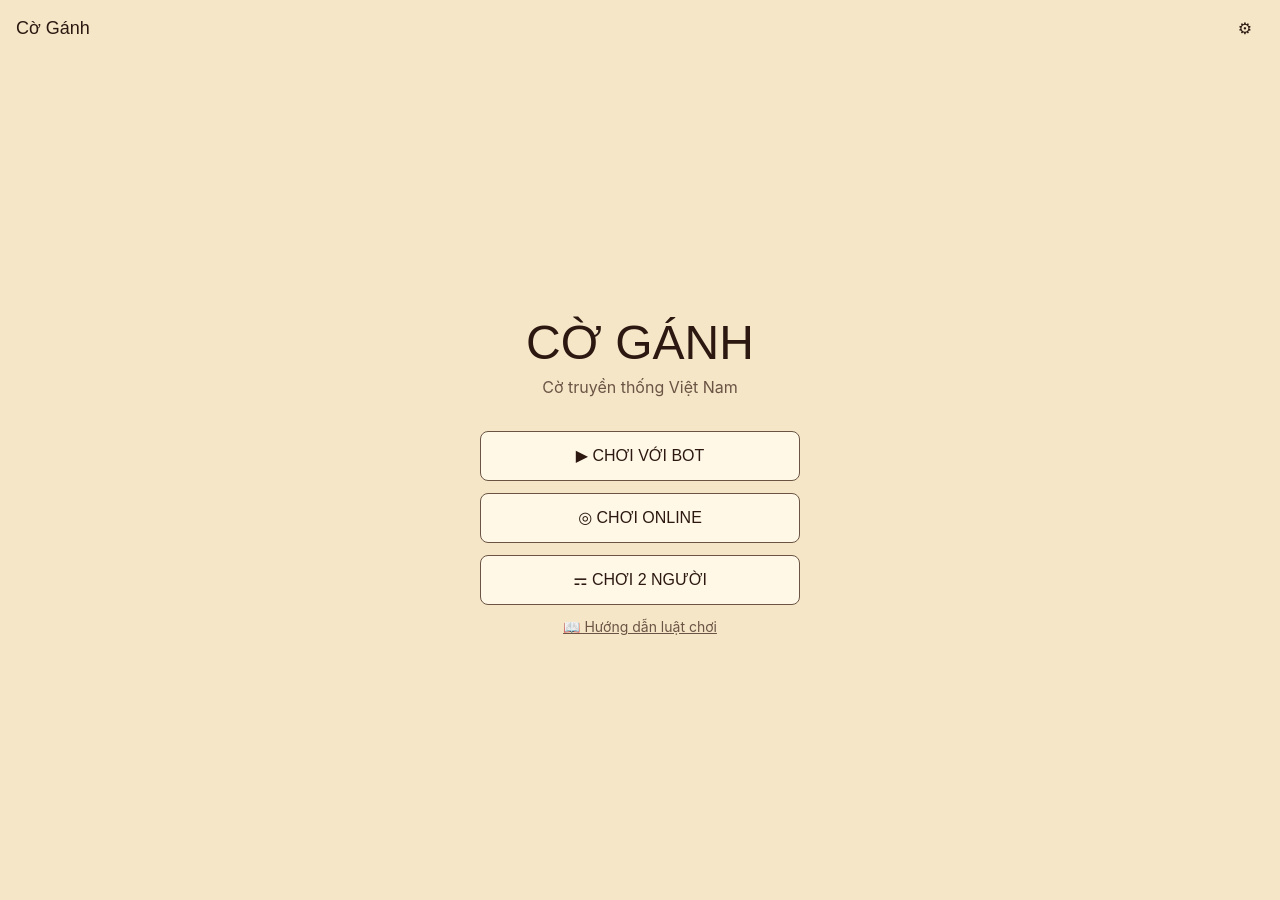
HomePage › opens settings modal when settings button clicked
The width and height of the screenshot is (1280, 900).
Click the button named "Cài đặt" at (1245, 28), box [1226,12,1264,44]
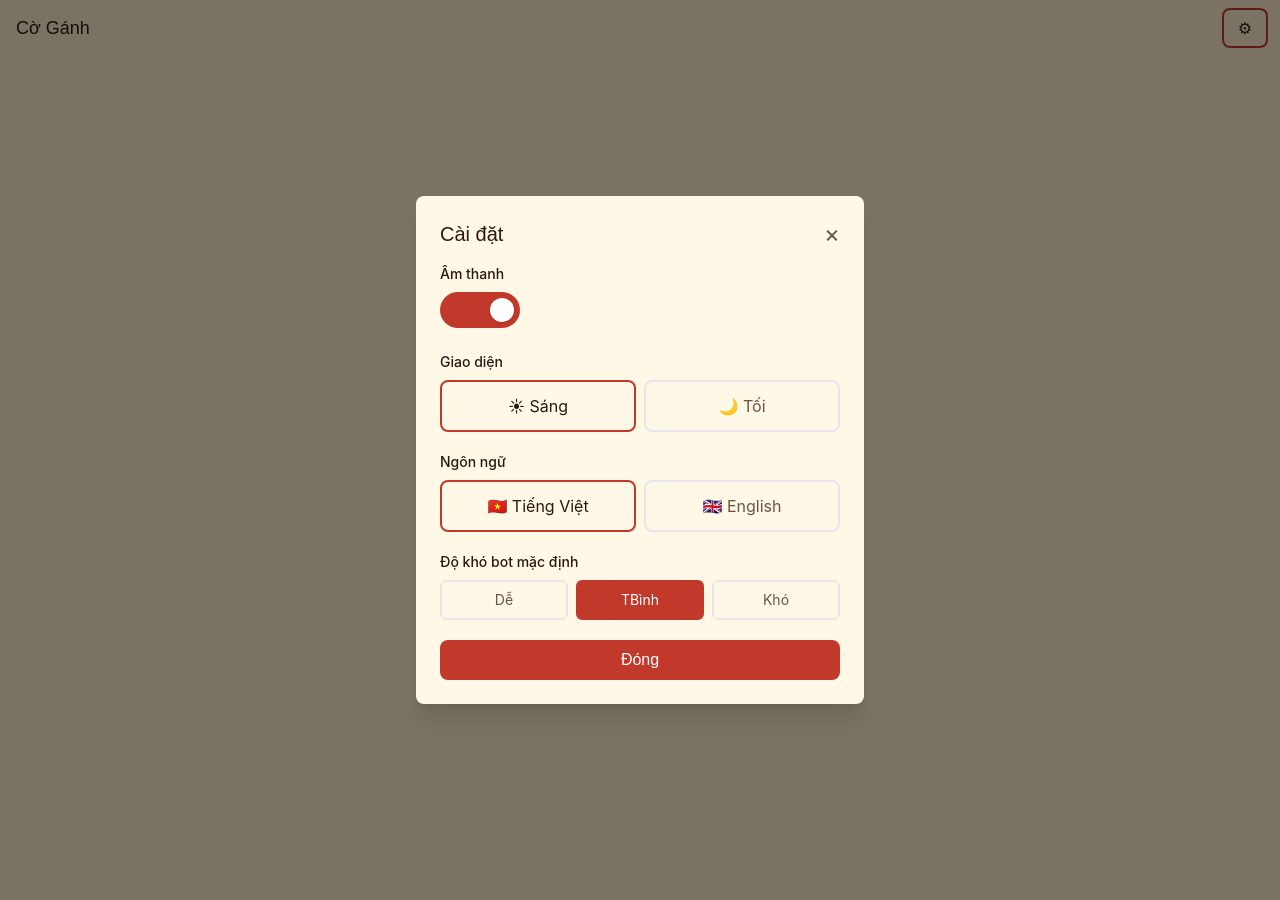
Expected: the dialog "Cài đặt" is shown
